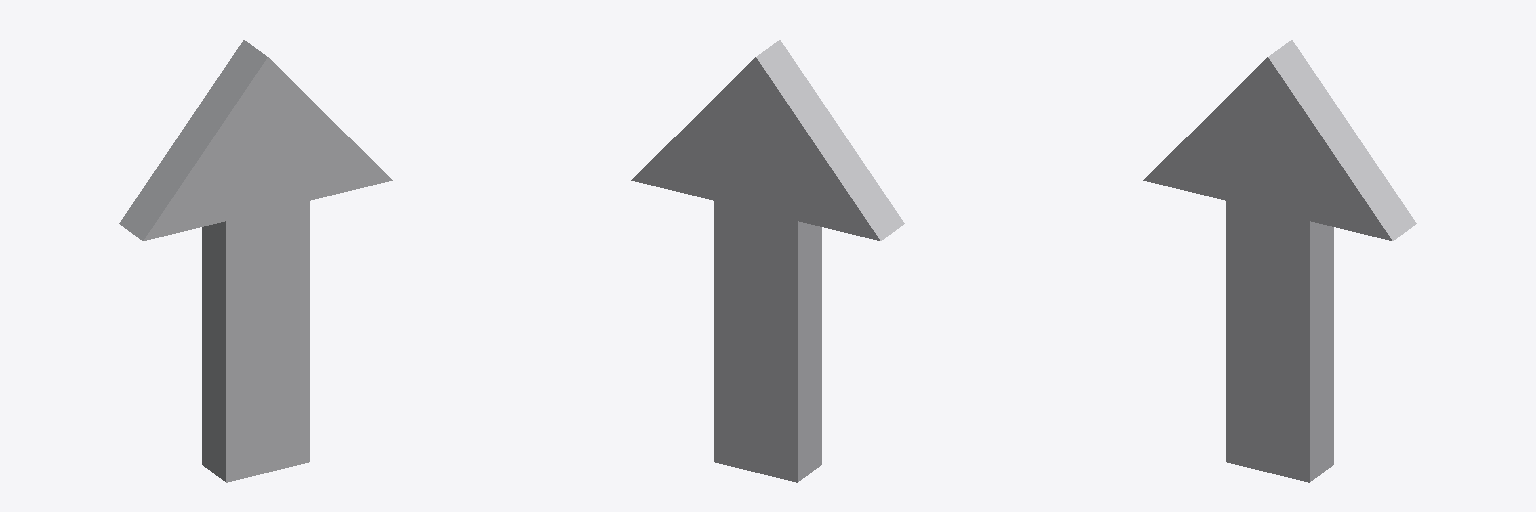
Rendered from arrow3.obj.
3 renders of one model, left to right at view 1: azimuth 30°, elevation 25°; view 2: azimuth 150°, elevation 25°; view 3: azimuth 330°, elevation 25°, orthographic.
Bounding box in the file's own units: 0.375 × 0.5957 × 0.0625.